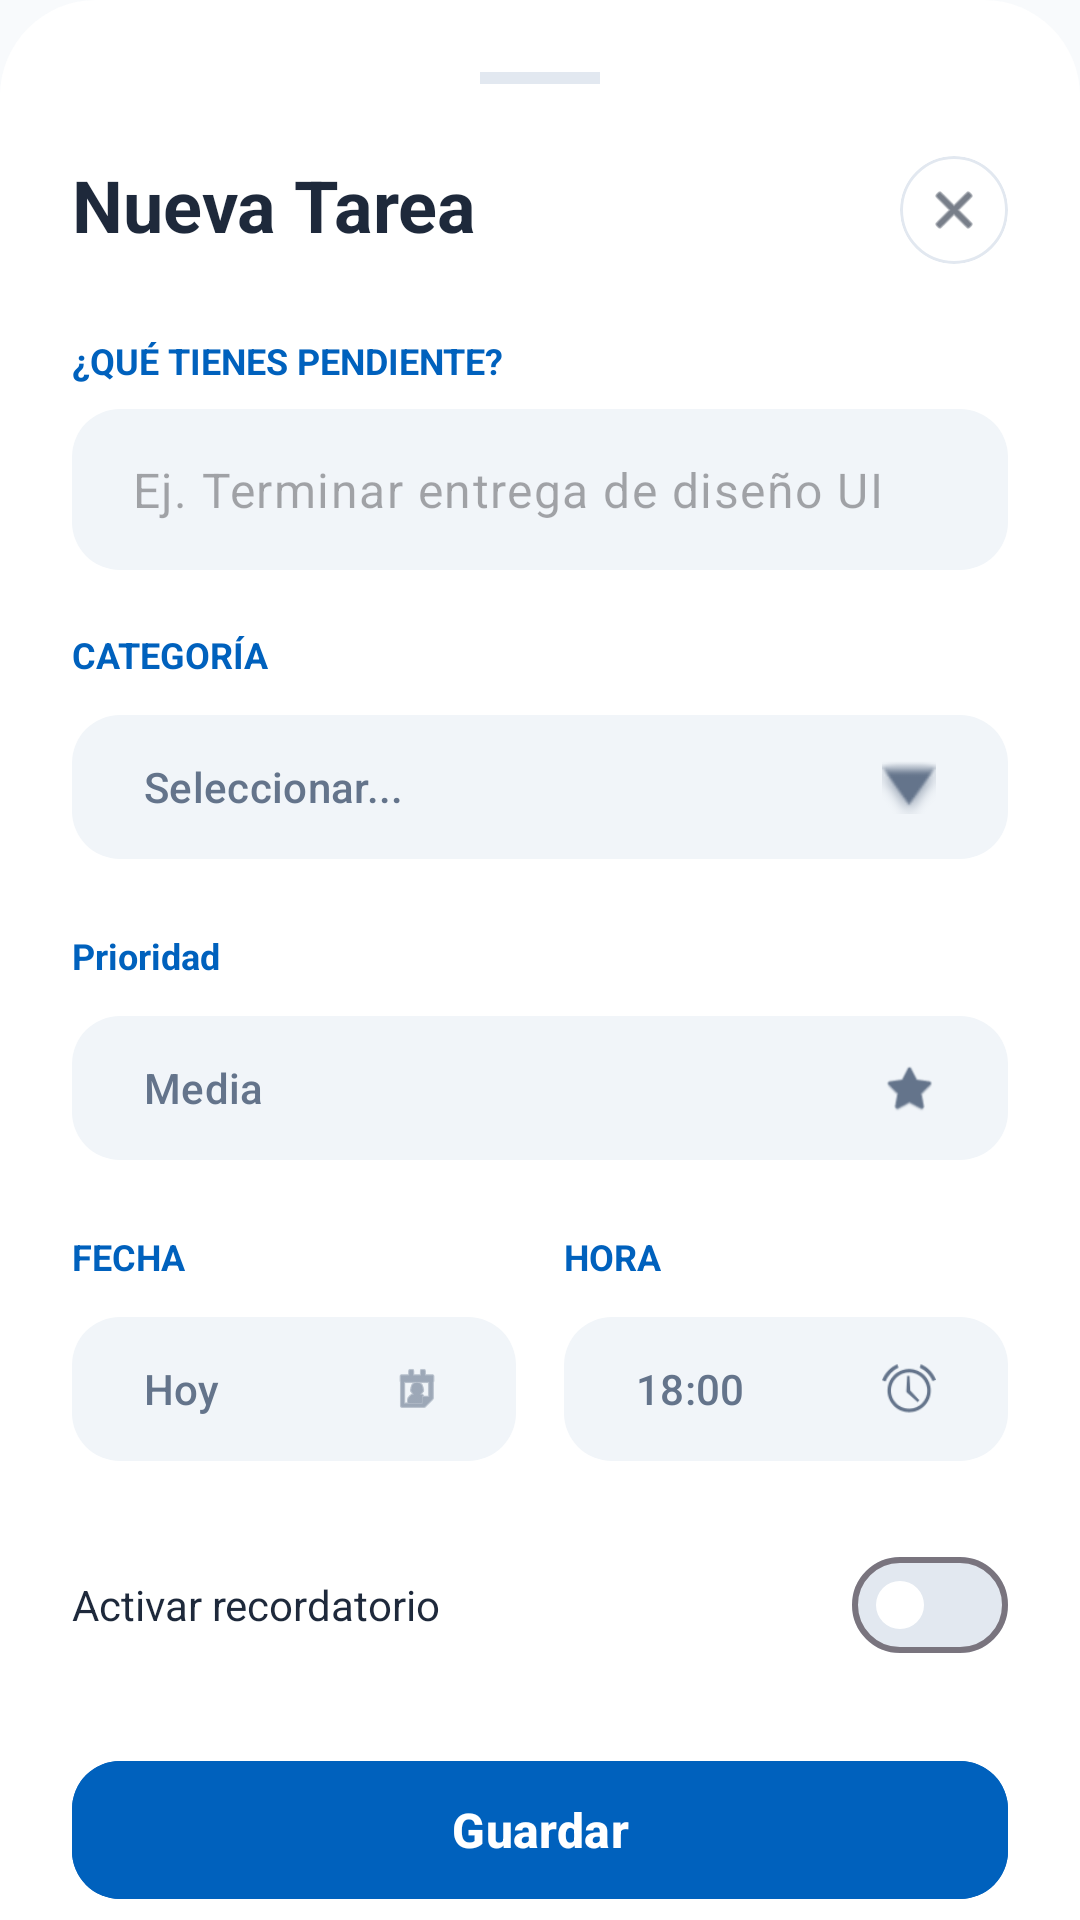

Where to tap for icons on this 1080×1920 app screen, as (x=x, y=y):
close clear cancel: (x=954, y=210)
